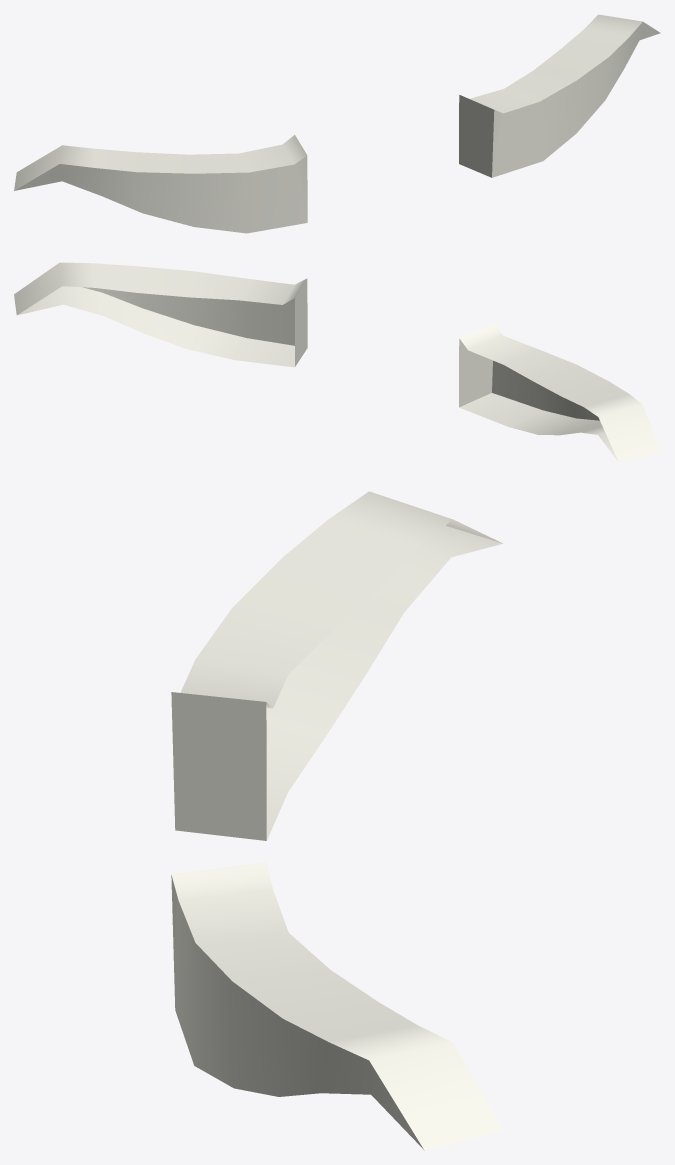
Rendered from Brow_White_4.fbx.
3 views of the same model, one above another, from view 1: azimuth 30°, elevation 25°; view 2: azimuth 150°, elevation 25°; view 3: azimuth 270°, elevation 25° (orthographic). The views are drawn at different scales.
Parts seen in each view (by area): view 1: Brow_White_4; view 2: Brow_White_4; view 3: Brow_White_4.
Boxes of the visible parts, <box> form: Brow_White_4: <box>14,14,660,233</box>; Brow_White_4: <box>14,262,660,462</box>; Brow_White_4: <box>171,491,502,1150</box>.
Bounding box in the file's own units: 37.59 × 4.15 × 8.36.
